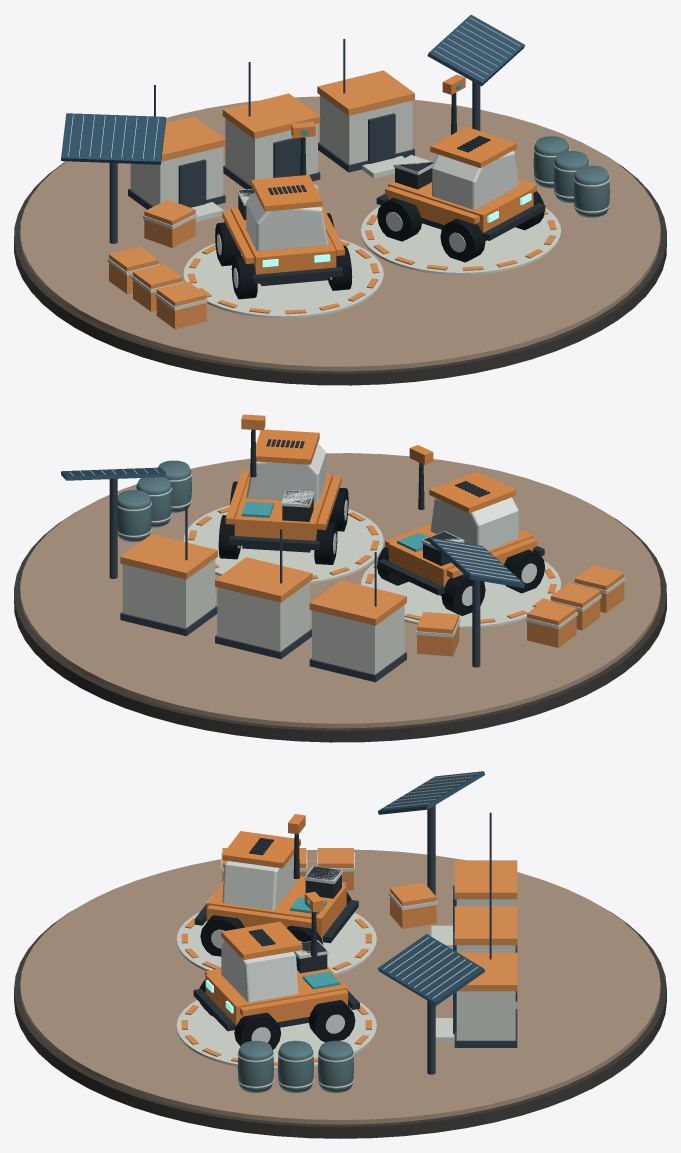
File: fieldStation.glb
3 renders of one model, top to bottom at view 1: azimuth 30°, elevation 25°; view 2: azimuth 150°, elevation 25°; view 3: azimuth 270°, elevation 25°, orthographic.
Parts seen in each view (by area): view 1: fieldStation/terrain/terrain, fieldStation/terrain/base, fieldStation/padAlpha/servicePad, fieldStation/padBravo/servicePad, fieldStation/solarWest/solarPanel, fieldStation/solarEast/solarPanel, fieldStation/bravo/cab, fieldStation/habitatComms/station, fieldStation/alpha/cab, fieldStation/habitatWest/station, fieldStation/habitatEast/station, fieldStation/habitatComms/stationTop (+27 smaller); view 2: fieldStation/terrain/terrain, fieldStation/terrain/base, fieldStation/padBravo/servicePad, fieldStation/habitatComms/station, fieldStation/habitatEast/station, fieldStation/habitatWest/station, fieldStation/padAlpha/servicePad, fieldStation/alpha/cab, fieldStation/habitatWest/stationTop, fieldStation/habitatComms/stationTop, fieldStation/bravo/cab, fieldStation/habitatEast/stationTop (+31 smaller); view 3: fieldStation/terrain/terrain, fieldStation/terrain/base, fieldStation/padBravo/servicePad, fieldStation/solarEast/solarPanel, fieldStation/bravo/cab, fieldStation/habitatComms/station, fieldStation/alpha/cab, fieldStation/padAlpha/servicePad, fieldStation/habitatWest/stationTop, fieldStation/habitatEast/stationTop, fieldStation/bravo/chassis, fieldStation/alpha/chassis (+21 smaller).
Boxes of the visible parts, box(x1,y1,x2,y2) form: fieldStation/terrain/terrain: box(20, 96, 660, 371); fieldStation/terrain/base: box(14, 155, 666, 385); fieldStation/padAlpha/servicePad: box(183, 239, 383, 318); fieldStation/padBravo/servicePad: box(361, 205, 561, 275); fieldStation/solarWest/solarPanel: box(61, 113, 166, 164); fieldStation/solarEast/solarPanel: box(427, 14, 524, 86); fieldStation/bravo/cab: box(432, 151, 518, 209); fieldStation/habitatComms/station: box(320, 95, 412, 164); fieldStation/alpha/cab: box(246, 192, 328, 251); fieldStation/habitatWest/station: box(130, 147, 223, 206); fieldStation/habitatEast/station: box(225, 118, 317, 184); fieldStation/habitatComms/stationTop: box(317, 70, 414, 115); fieldStation/terrain/terrain: box(20, 453, 660, 728); fieldStation/terrain/base: box(14, 511, 666, 742); fieldStation/padBravo/servicePad: box(183, 505, 383, 583); fieldStation/habitatComms/station: box(122, 559, 215, 628); fieldStation/habitatEast/station: box(217, 582, 309, 651); fieldStation/habitatWest/station: box(312, 605, 404, 674); fieldStation/padAlpha/servicePad: box(361, 561, 561, 628); fieldStation/alpha/cab: box(430, 497, 518, 550); fieldStation/habitatWest/stationTop: box(309, 580, 406, 625); fieldStation/habitatComms/stationTop: box(120, 534, 217, 579); fieldStation/bravo/cab: box(246, 444, 326, 502); fieldStation/habitatEast/stationTop: box(215, 557, 312, 602); fieldStation/terrain/terrain: box(20, 849, 660, 1124); fieldStation/terrain/base: box(14, 911, 666, 1138); fieldStation/padBravo/servicePad: box(176, 1000, 376, 1069); fieldStation/solarEast/solarPanel: box(377, 934, 484, 1005); fieldStation/bravo/cab: box(221, 941, 298, 1002); fieldStation/habitatComms/station: box(456, 991, 515, 1040); fieldStation/alpha/cab: box(222, 854, 296, 909); fieldStation/padAlpha/servicePad: box(176, 912, 376, 974); fieldStation/habitatWest/stationTop: box(454, 860, 517, 899); fieldStation/habitatEast/stationTop: box(454, 906, 517, 945); fieldStation/bravo/chassis: box(205, 966, 347, 1026); fieldStation/alpha/chassis: box(206, 879, 346, 939).
Size of the model in its own units: 14.35 by 3.7 by 14.35.
